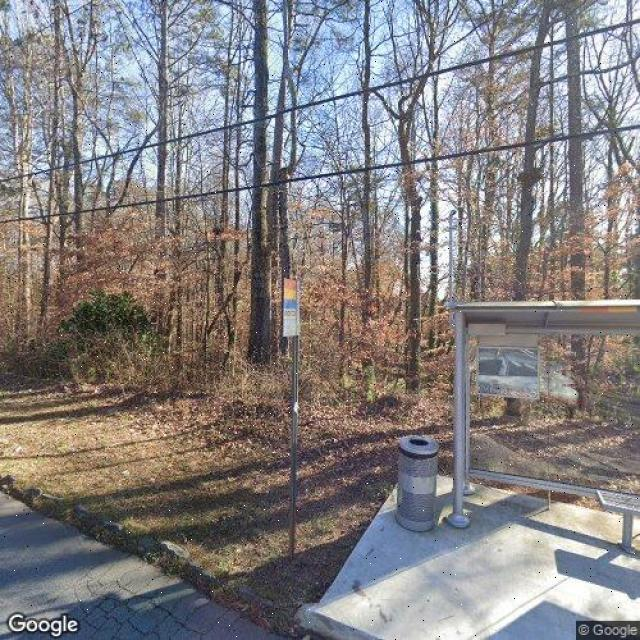seating: (596, 488, 640, 559)
shelter: (445, 297, 640, 530)
trash_can: (396, 434, 439, 534)
